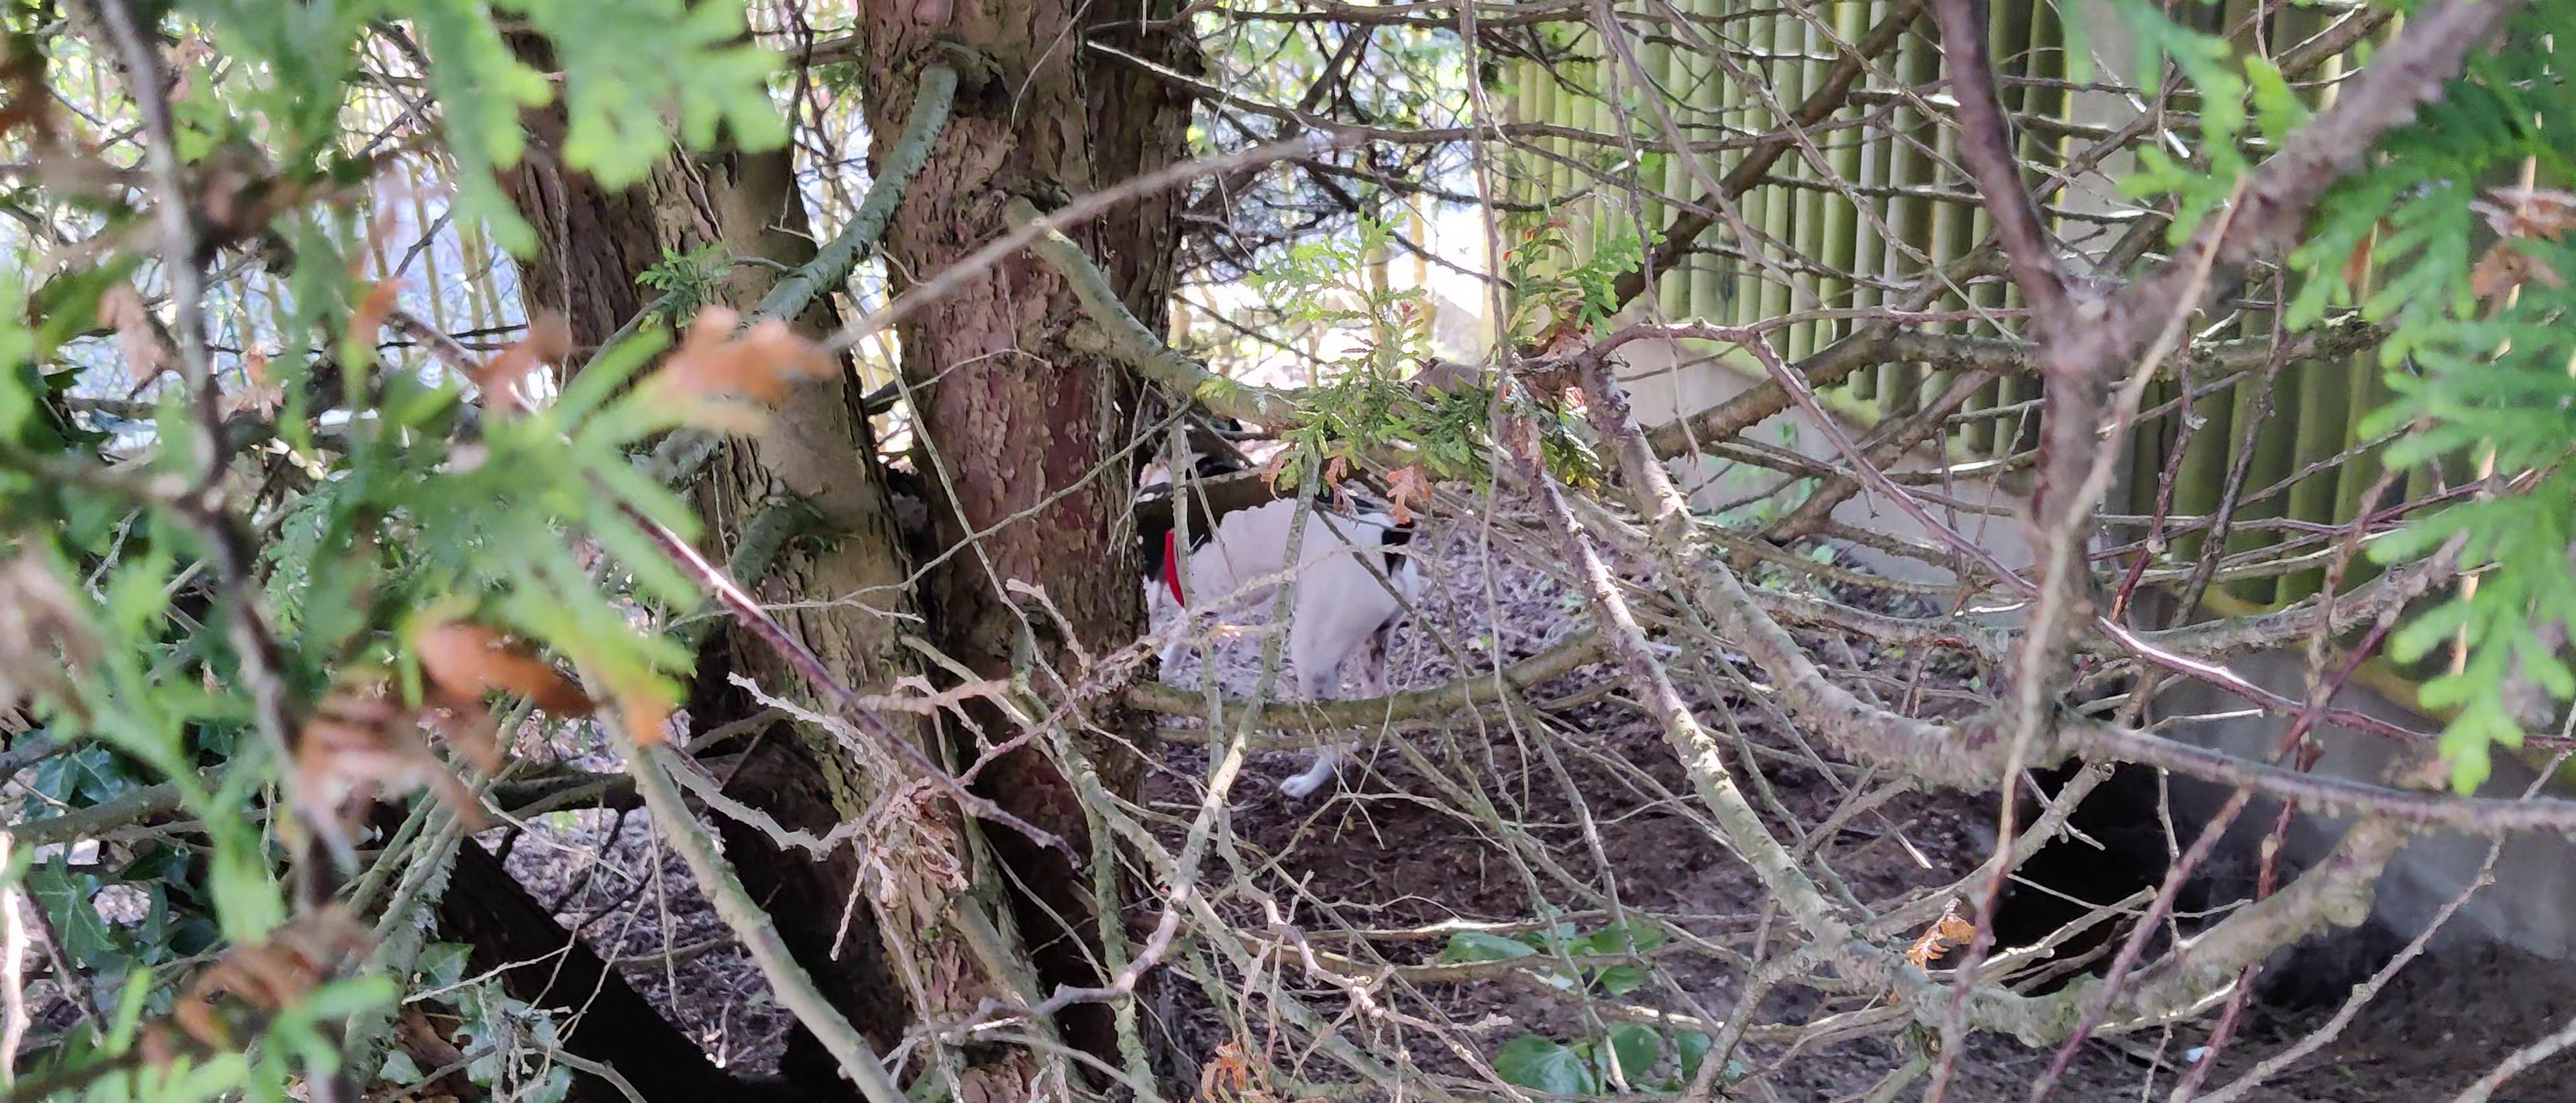Dog: (1101, 350, 1469, 820)
